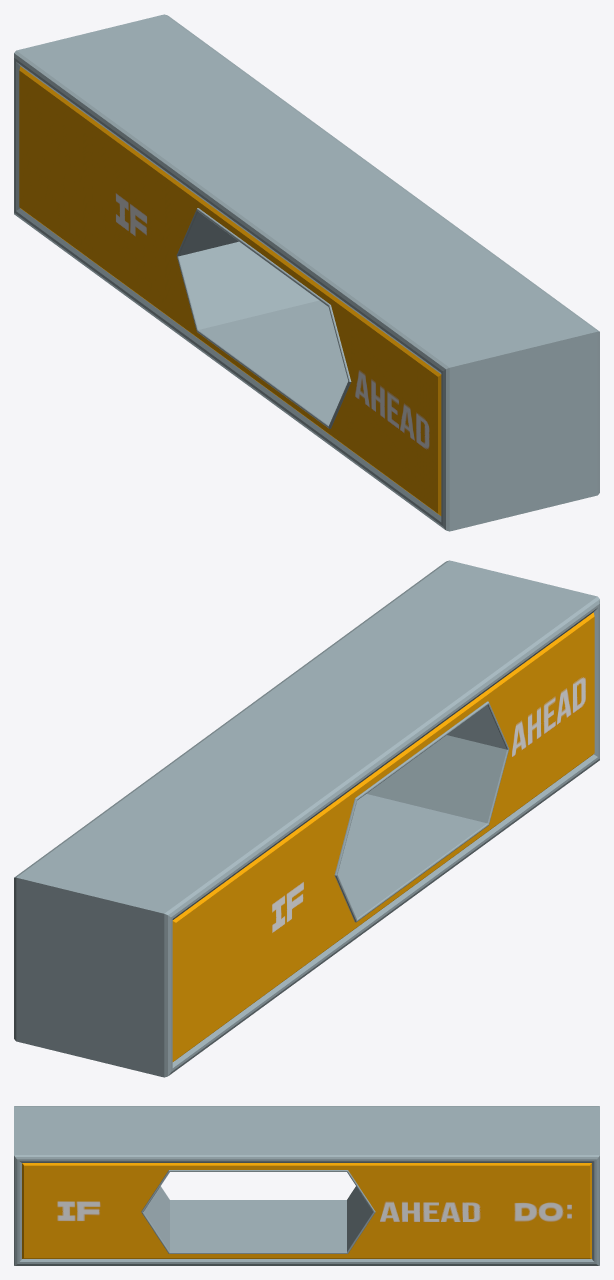
The model's file is CONTROL_IF_AHEAD_DO.fbx.
The picture shows the model from 3 angles, top to bottom: view 1: azimuth 30°, elevation 25°; view 2: azimuth 150°, elevation 25°; view 3: azimuth 270°, elevation 25°; orthographic projection. The views are drawn at different scales.
Visible parts, largest first — view 1: CONTROL_IF; view 2: CONTROL_IF; view 3: CONTROL_IF.
Boxes of the visible parts, left/top/right/bottom form: CONTROL_IF: left=14, top=14, right=599, bottom=531; CONTROL_IF: left=14, top=560, right=599, bottom=1077; CONTROL_IF: left=14, top=1106, right=599, bottom=1265.
Size of the model in its own units: 102 by 100 by 480.
1 material, 1 textured.
